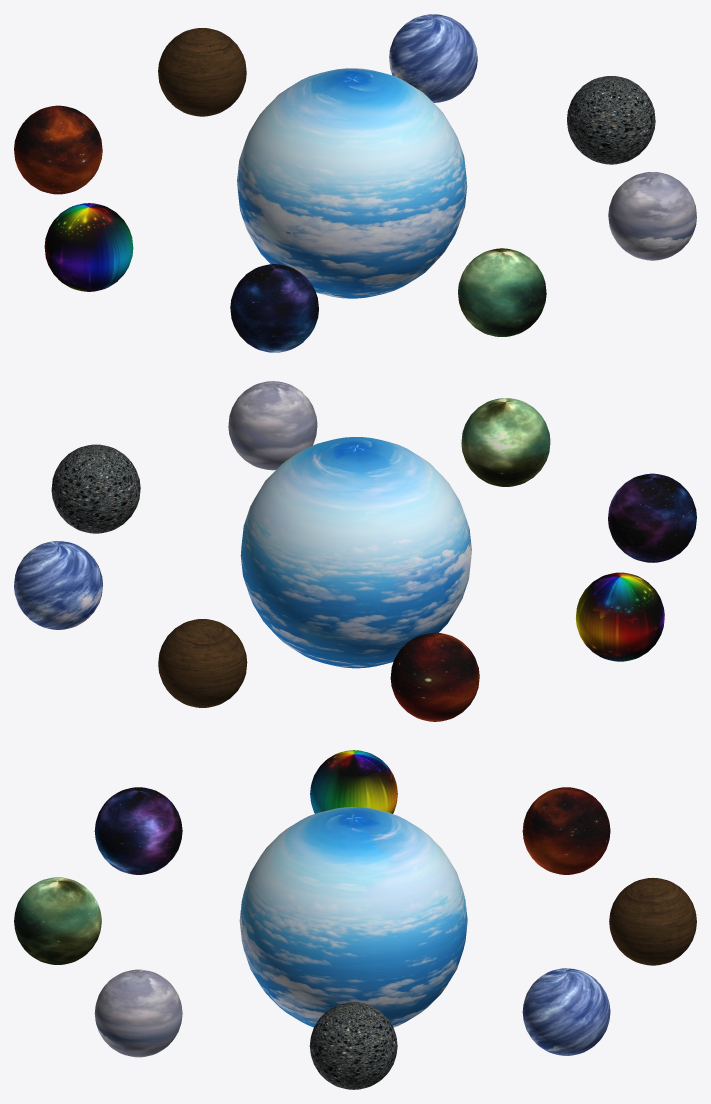
Rendered from plan.gltf.
3 views of the same model, one above another, from view 1: azimuth 30°, elevation 25°; view 2: azimuth 150°, elevation 25°; view 3: azimuth 270°, elevation 25° (orthographic).
Parts seen in each view (by area): view 1: Сфера.001; view 2: Сфера.001; view 3: Сфера.001.
Boxes of the visible parts, <box> form: Сфера.001: <box>14,14,696,352</box>; Сфера.001: <box>14,381,696,721</box>; Сфера.001: <box>14,750,696,1089</box>.
Bounding box in the file's own units: 12.8 × 4.27 × 12.78.
Materials: 9 (9 with a texture image).
